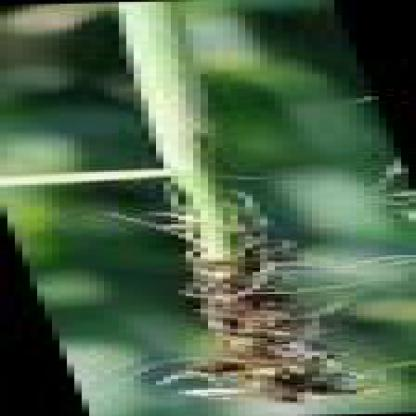Wheat Smut: (249, 373, 341, 400), (196, 286, 275, 312), (231, 338, 320, 361), (221, 314, 307, 336), (200, 261, 259, 282), (248, 362, 334, 370), (192, 363, 239, 372), (222, 378, 240, 396)
